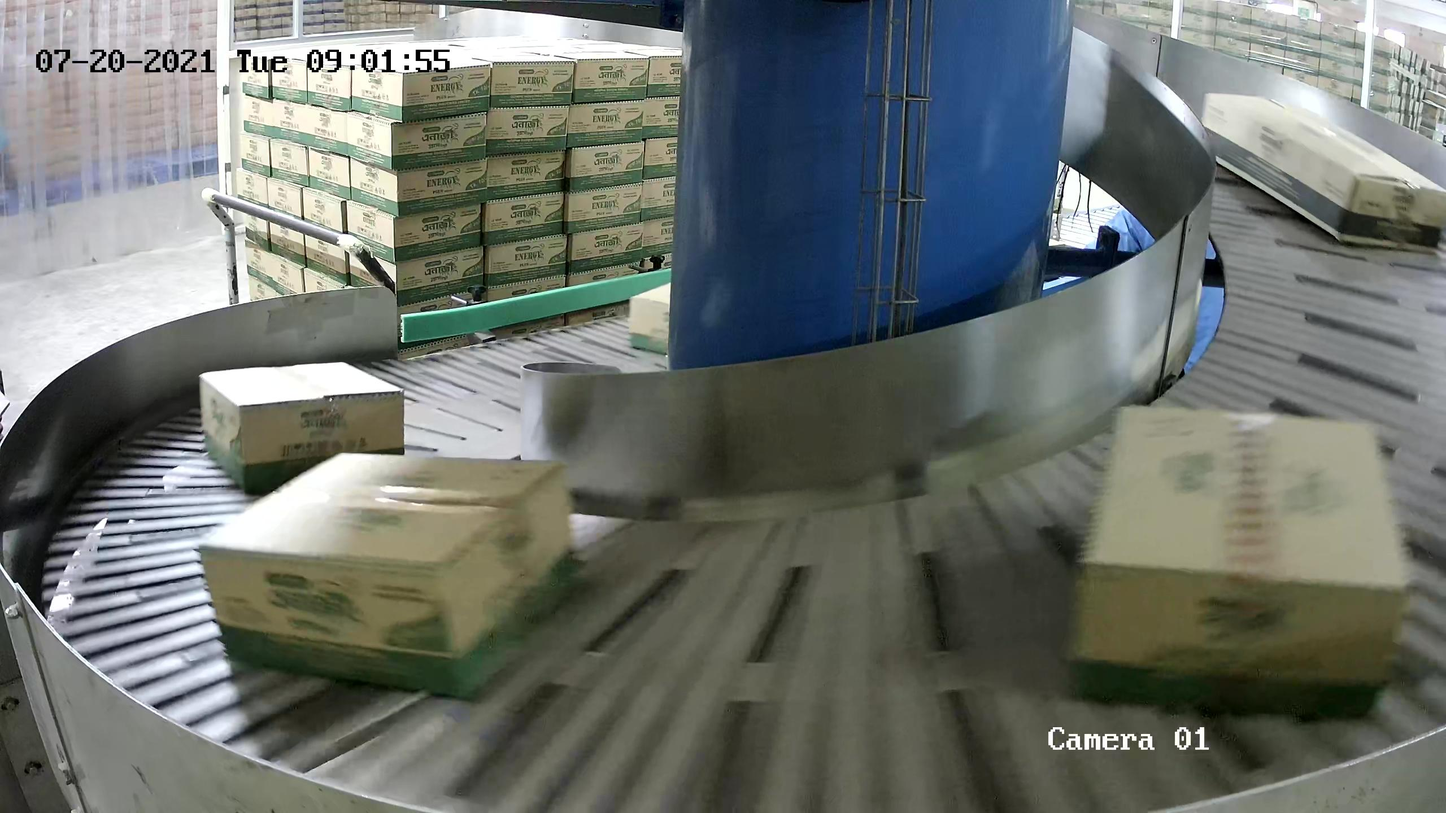Box: (1069, 400, 1414, 721), (193, 448, 579, 703), (1200, 90, 1446, 253), (196, 359, 406, 496), (627, 279, 671, 355)
